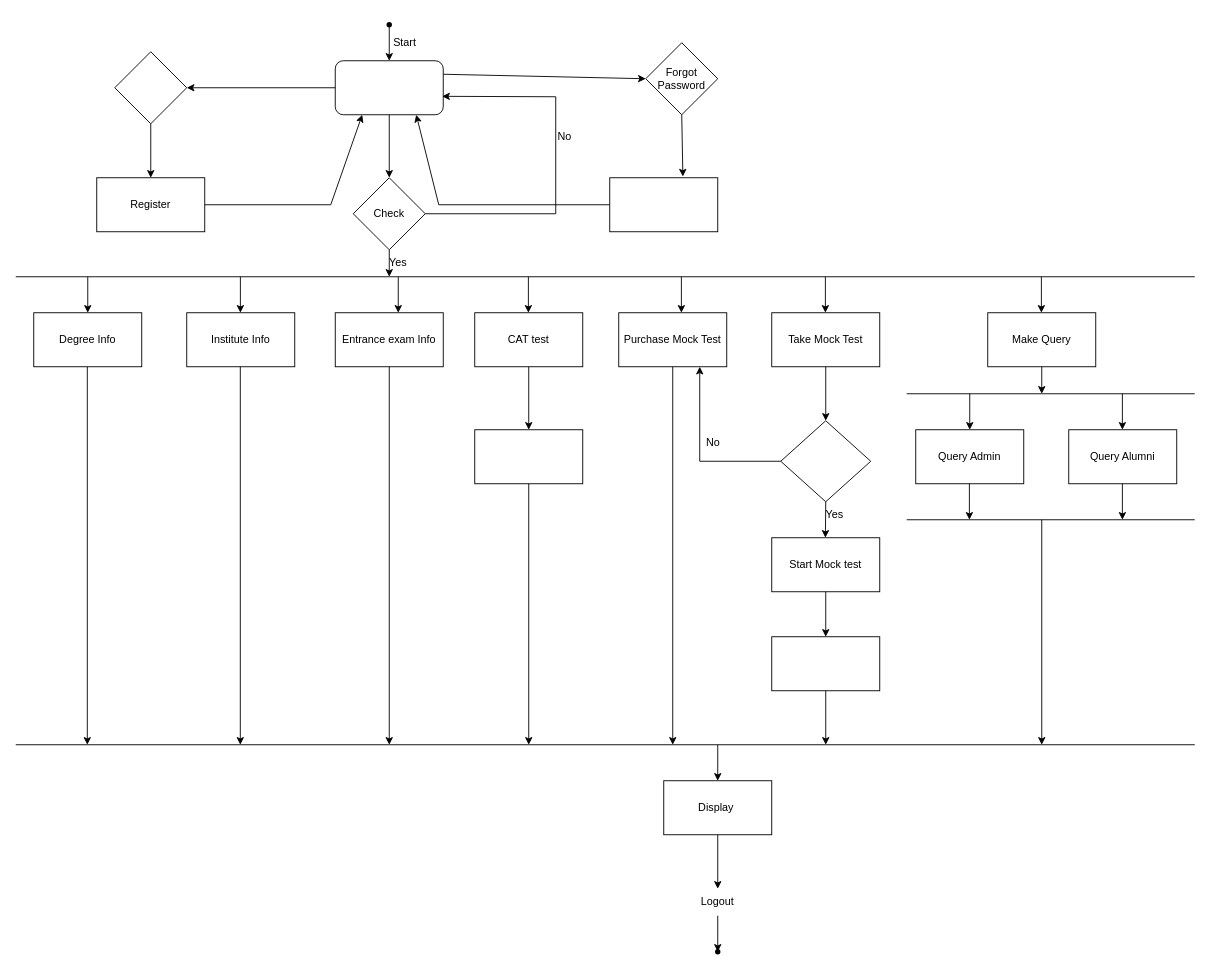
Some shapes in this 1211 by 977 pixel diagram are drawn without their labels. Each missing label, with the centre of its shape:
"CAT Result" belongs at point 528,456.
"Change password" belongs at point 663,204.
"Login" belongs at point 388,87.
"Not Registered" belongs at point 150,87.
"Purchased mock test" belongs at point 825,461.
"Show Result" belongs at point 825,663.
